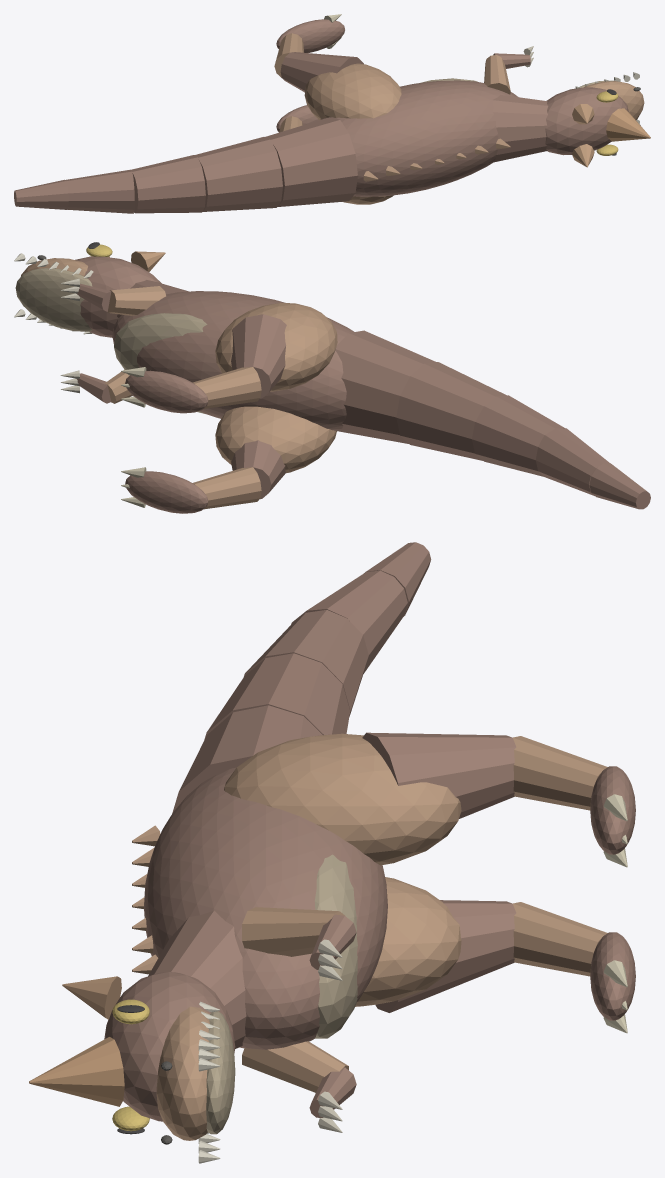
Rendered from Ceratosaurus.glb.
3 renders of one model, top to bottom at view 1: azimuth 30°, elevation 25°; view 2: azimuth 150°, elevation 25°; view 3: azimuth 270°, elevation 25°, orthographic. The views are drawn at different scales.
Parts seen in each view (by area): view 1: Ceratosaurus_000, Ceratosaurus_007, Ceratosaurus_008, Ceratosaurus_034, Ceratosaurus_009, Ceratosaurus_003, Ceratosaurus_002, Ceratosaurus_010, Ceratosaurus_035, Ceratosaurus_037, Ceratosaurus_011, Ceratosaurus_071 (+8 smaller); view 2: Ceratosaurus_000, Ceratosaurus_008, Ceratosaurus_007, Ceratosaurus_012, Ceratosaurus_034, Ceratosaurus_009, Ceratosaurus_005, Ceratosaurus_035, Ceratosaurus_010, Ceratosaurus_003, Ceratosaurus_001, Ceratosaurus_015 (+11 smaller); view 3: Ceratosaurus_000, Ceratosaurus_034, Ceratosaurus_035, Ceratosaurus_012, Ceratosaurus_003, Ceratosaurus_008, Ceratosaurus_002, Ceratosaurus_007, Ceratosaurus_004, Ceratosaurus_013, Ceratosaurus_009, Ceratosaurus_014 (+13 smaller).
Part boxes in pixels (<box>): Ceratosaurus_000: <box>320,80,518,196</box>; Ceratosaurus_007: <box>265,117,357,206</box>; Ceratosaurus_008: <box>194,137,282,211</box>; Ceratosaurus_034: <box>304,63,401,120</box>; Ceratosaurus_009: <box>131,155,205,213</box>; Ceratosaurus_003: <box>545,87,628,155</box>; Ceratosaurus_002: <box>492,95,548,162</box>; Ceratosaurus_010: <box>65,169,134,213</box>; Ceratosaurus_035: <box>280,52,363,92</box>; Ceratosaurus_037: <box>276,19,344,52</box>; Ceratosaurus_011: <box>14,179,68,209</box>; Ceratosaurus_071: <box>606,108,650,141</box>; Ceratosaurus_000: <box>112,291,353,430</box>; Ceratosaurus_008: <box>396,362,506,460</box>; Ceratosaurus_007: <box>335,330,435,443</box>; Ceratosaurus_012: <box>215,406,336,473</box>; Ceratosaurus_034: <box>215,303,337,391</box>; Ceratosaurus_009: <box>472,395,564,476</box>; Ceratosaurus_005: <box>15,268,92,331</box>; Ceratosaurus_035: <box>231,314,286,398</box>; Ceratosaurus_010: <box>535,428,609,495</box>; Ceratosaurus_003: <box>75,256,161,337</box>; Ceratosaurus_001: <box>114,313,207,413</box>; Ceratosaurus_015: <box>125,471,208,513</box>; Ceratosaurus_000: <box>144,767,387,1049</box>; Ceratosaurus_034: <box>224,733,461,865</box>; Ceratosaurus_035: <box>362,732,516,818</box>; Ceratosaurus_012: <box>355,877,461,1006</box>; Ceratosaurus_003: <box>104,972,235,1121</box>; Ceratosaurus_008: <box>204,653,350,739</box>; Ceratosaurus_002: <box>148,910,246,1048</box>; Ceratosaurus_007: <box>172,705,322,813</box>; Ceratosaurus_004: <box>156,1006,209,1140</box>; Ceratosaurus_013: <box>375,900,516,1012</box>; Ceratosaurus_009: <box>244,609,368,716</box>; Ceratosaurus_014: <box>513,902,607,976</box>.
Bounding box in the file's own units: 6.57 × 1.49 × 3.01.
